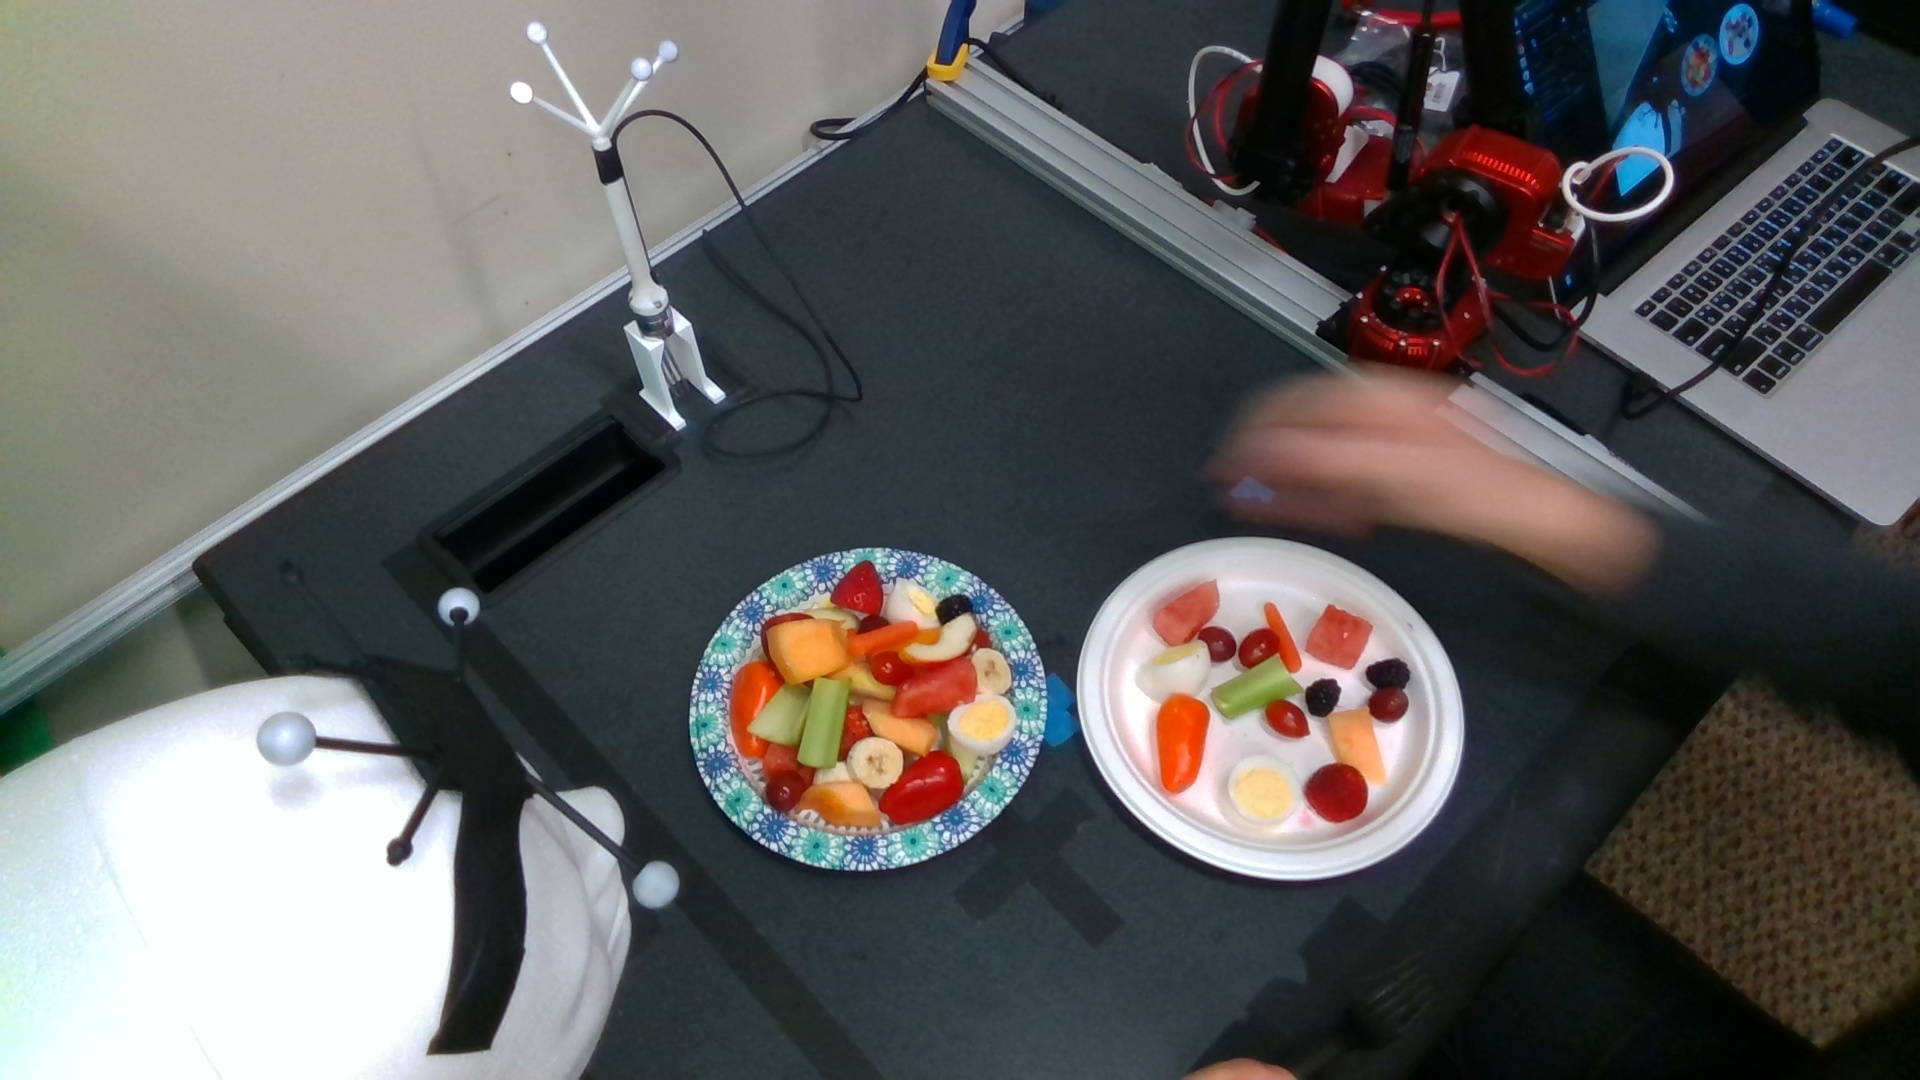apple: (899, 611, 975, 666)
banana: (847, 737, 902, 789), (971, 647, 1014, 695)
bell_pepper: (880, 750, 963, 822), (1156, 692, 1207, 796), (731, 663, 779, 756)
blackberry: (1366, 659, 1410, 690), (1305, 680, 1340, 716), (938, 596, 972, 624)
cantalope: (861, 702, 938, 753), (800, 782, 884, 827)
carrot: (847, 622, 916, 659), (1263, 603, 1300, 671)
celery: (1215, 654, 1302, 720), (796, 676, 848, 766), (748, 678, 814, 748)
cherry_tomato: (1266, 700, 1312, 737), (1240, 628, 1278, 669), (869, 651, 913, 684)
egg: (1228, 752, 1300, 822), (1139, 641, 1216, 705), (949, 692, 1015, 756), (886, 580, 945, 630)
grape_purple: (765, 771, 803, 808), (1199, 626, 1234, 662), (1370, 687, 1408, 719)
melon: (765, 618, 848, 680), (1327, 708, 1389, 785), (1153, 578, 1222, 645), (894, 662, 978, 717), (1305, 604, 1374, 667)
strawberry: (1305, 761, 1370, 824), (832, 562, 884, 616)
